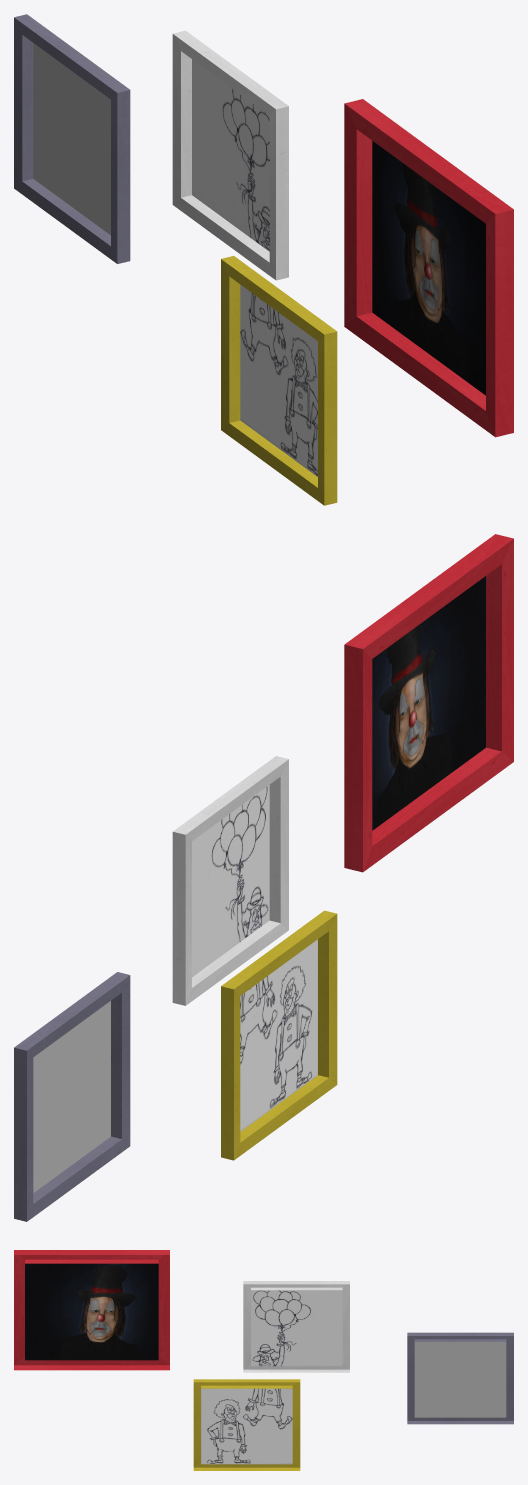
The model's file is Painting.fbx.
The picture shows the model from 3 angles, top to bottom: view 1: azimuth 30°, elevation 25°; view 2: azimuth 150°, elevation 25°; view 3: azimuth 270°, elevation 25°; orthographic projection. The views are drawn at different scales.
Parts seen in each view (by area): view 1: Frame (×4), PaintingBenny, PaintingWithBalloons2, PaintingWithBalloons1, Painting2; view 2: Frame (×4), PaintingBenny, PaintingWithBalloons2, PaintingWithBalloons1, Painting2; view 3: Frame (×4), PaintingBenny, PaintingWithBalloons1, PaintingWithBalloons2, Painting2.
Boxes of the visible parts, x1,y1,x2,y2 form: Frame (×4): (14,14,513,505); PaintingBenny: (372,141,485,395); PaintingWithBalloons2: (240,284,317,476); PaintingWithBalloons1: (192,59,269,251); Painting2: (33,43,110,235); Frame (×4): (14,534,513,1221); PaintingBenny: (372,576,485,830); PaintingWithBalloons2: (240,939,317,1131); PaintingWithBalloons1: (192,785,269,976); Painting2: (33,1001,110,1192); Frame (×4): (14,1250,513,1470); PaintingBenny: (25,1263,158,1360); PaintingWithBalloons1: (251,1290,342,1366); PaintingWithBalloons2: (201,1388,292,1464); Painting2: (414,1342,506,1417).
Size of the model in its own units: 0.1172 by 2.53 by 5.3.
